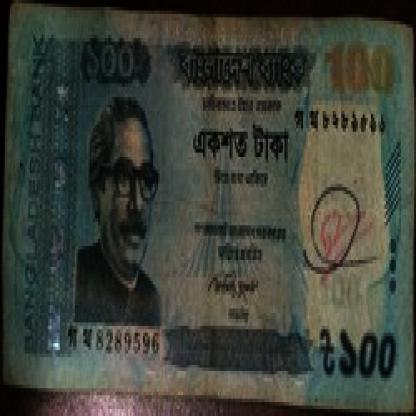one hundred taka: (321, 31, 403, 101), (338, 319, 408, 392), (76, 24, 140, 87)
